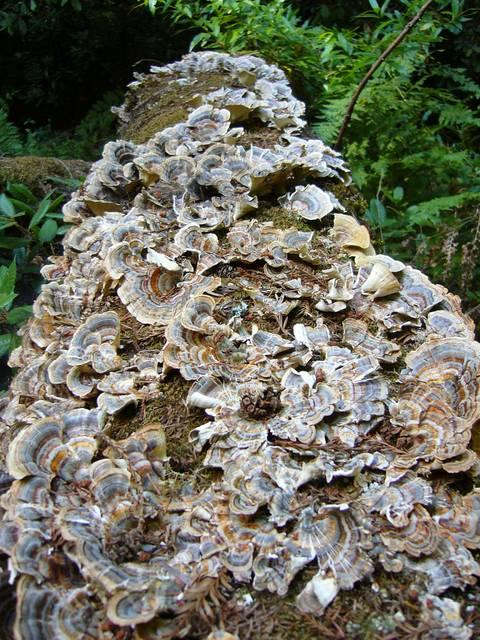poisonous_mushroom: (0, 49, 479, 639)
